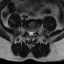CCS_normal: (30, 28, 32, 38)
LFS_normal: (34, 28, 36, 35)
LLS_normal: (32, 29, 34, 37)
RFS_normal: (26, 27, 28, 34)
RLS_normal: (28, 28, 30, 37)
